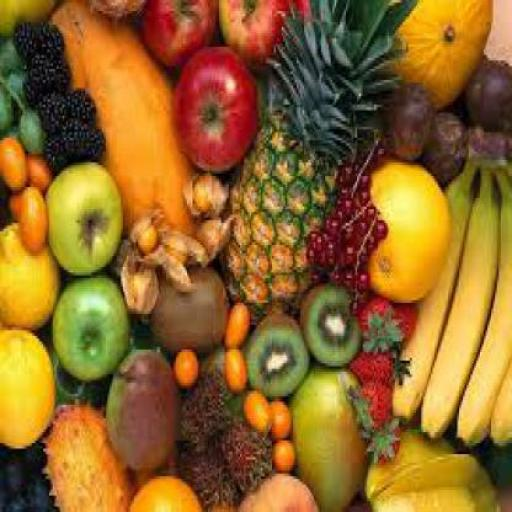biodegradable: (0, 0, 511, 511), (46, 0, 200, 251), (412, 129, 510, 435), (390, 126, 474, 424), (262, 0, 414, 162), (216, 115, 332, 317), (451, 129, 510, 454), (372, 0, 490, 107), (289, 360, 367, 510), (170, 41, 255, 166), (38, 402, 132, 509), (104, 346, 182, 468), (44, 157, 125, 273), (50, 267, 130, 380), (143, 262, 227, 350), (0, 324, 55, 448), (215, 0, 310, 71), (0, 220, 59, 325), (242, 308, 308, 400), (138, 0, 218, 69), (297, 278, 357, 366), (178, 437, 236, 509), (46, 338, 104, 408), (380, 80, 432, 156), (417, 107, 465, 187), (350, 290, 420, 344), (113, 234, 159, 314), (214, 418, 270, 482), (233, 471, 321, 509), (463, 58, 511, 127), (184, 368, 232, 426), (124, 476, 198, 510), (6, 184, 44, 248), (124, 448, 180, 490), (181, 165, 229, 212), (488, 355, 510, 444), (175, 391, 210, 446), (160, 225, 208, 265), (192, 212, 230, 262), (351, 377, 387, 429), (0, 0, 59, 31), (128, 206, 162, 257), (0, 132, 28, 190), (363, 418, 399, 463), (360, 311, 402, 347), (13, 98, 42, 149), (26, 468, 58, 510), (240, 385, 268, 430), (170, 344, 200, 386), (36, 85, 64, 129), (23, 143, 51, 187), (221, 300, 248, 344), (346, 385, 368, 438), (157, 250, 189, 284), (222, 347, 244, 394), (24, 52, 50, 91), (2, 451, 26, 493), (266, 396, 288, 441), (58, 116, 86, 151), (10, 19, 36, 55), (0, 76, 16, 130), (87, 0, 146, 14), (34, 20, 62, 49), (41, 130, 65, 162), (0, 39, 21, 74), (66, 85, 92, 113), (270, 438, 292, 468), (22, 438, 44, 468), (46, 54, 66, 86), (85, 122, 102, 154), (202, 347, 226, 369), (3, 69, 23, 93), (0, 492, 23, 509), (18, 74, 34, 96), (308, 270, 325, 289), (323, 245, 340, 262), (370, 217, 383, 237), (328, 270, 344, 286), (350, 292, 363, 311), (340, 242, 353, 261), (350, 192, 363, 210), (340, 223, 353, 240), (355, 270, 365, 292), (302, 245, 313, 265), (316, 232, 326, 254), (344, 179, 358, 193), (323, 212, 337, 226), (340, 160, 352, 176), (342, 195, 353, 212), (334, 178, 344, 196), (357, 240, 368, 256), (327, 226, 340, 239), (342, 270, 352, 286), (306, 231, 316, 245), (362, 201, 372, 215), (357, 171, 367, 185), (355, 218, 369, 228), (334, 206, 344, 217), (366, 232, 376, 242), (357, 187, 367, 196), (335, 170, 342, 182), (328, 195, 338, 201)
